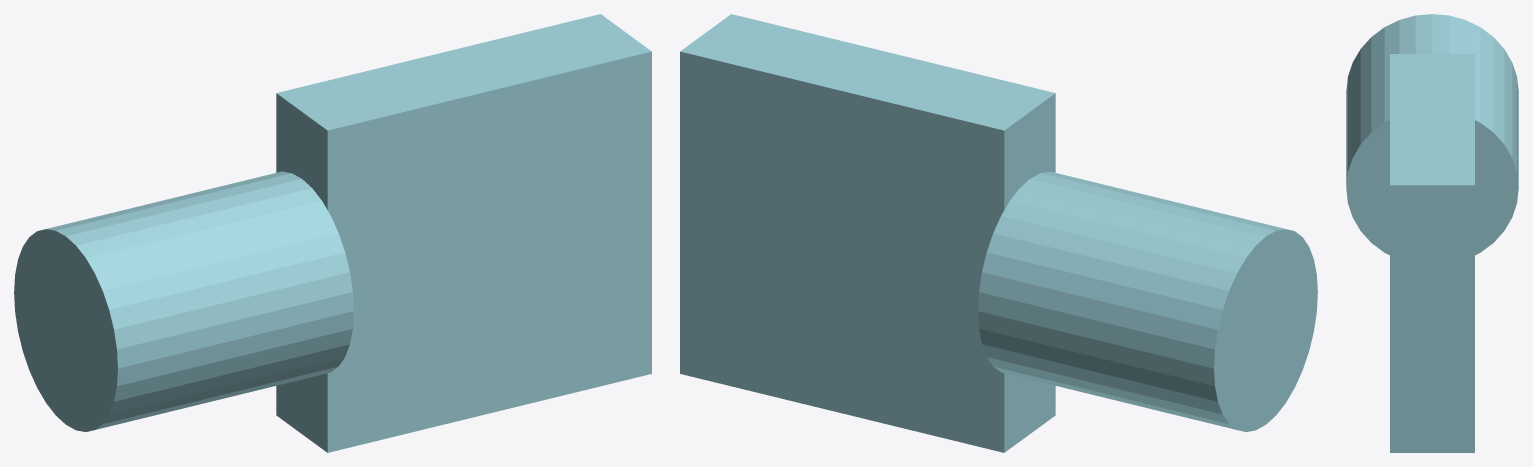
File: cylinder_brush_v11002.obj
3 renders of one model, left to right at view 1: azimuth 30°, elevation 25°; view 2: azimuth 150°, elevation 25°; view 3: azimuth 270°, elevation 25°, orthographic. The views are drawn at different scales.
Bounding box in the file's own units: 0.1854 × 0.1019 × 0.0595.
1 material, 1 textured.
